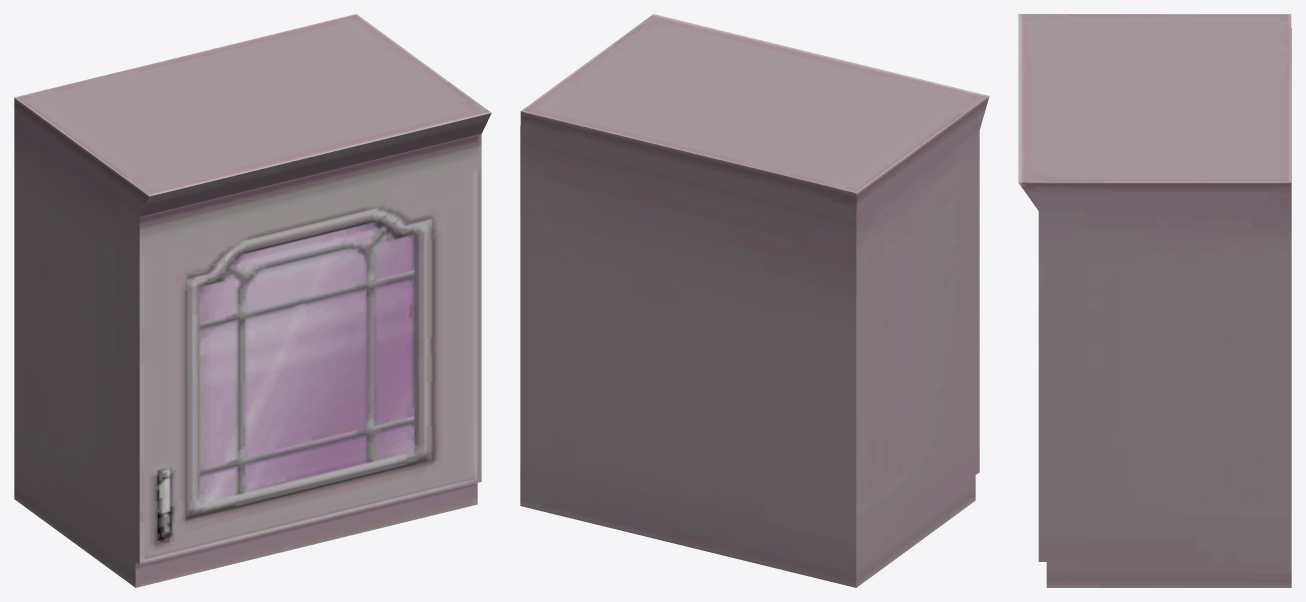
The model's file is furni_0200088_02.FBX.
3 renders of one model, left to right at view 1: azimuth 30°, elevation 25°; view 2: azimuth 150°, elevation 25°; view 3: azimuth 270°, elevation 25°, orthographic. The views are drawn at different scales.
Parts seen in each view (by area): view 1: furni_0200088_02; view 2: furni_0200088_02; view 3: furni_0200088_02.
Boxes of the visible parts, bbox=[...] form: furni_0200088_02: bbox=[14, 14, 491, 587]; furni_0200088_02: bbox=[520, 14, 989, 587]; furni_0200088_02: bbox=[1018, 14, 1291, 587].
Bounding box in the file's own units: 80.02 × 89.77 × 54.87.
Materials: 1 (1 with a texture image).
